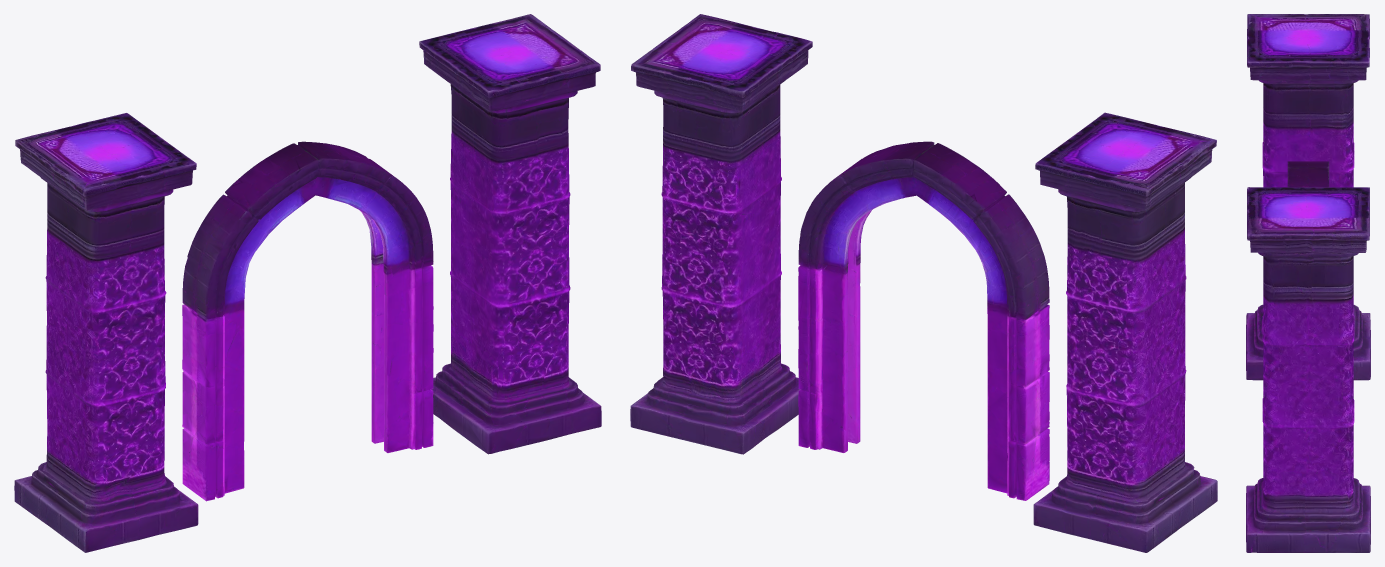
The model's file is portal-finish.glb.
3 views of the same model, side by side, from view 1: azimuth 30°, elevation 25°; view 2: azimuth 150°, elevation 25°; view 3: azimuth 270°, elevation 25° (orthographic). The views are drawn at different scales.
Bounding box in the file's own units: 1.9 × 1.27 × 0.4523.
1 material, 1 textured.
